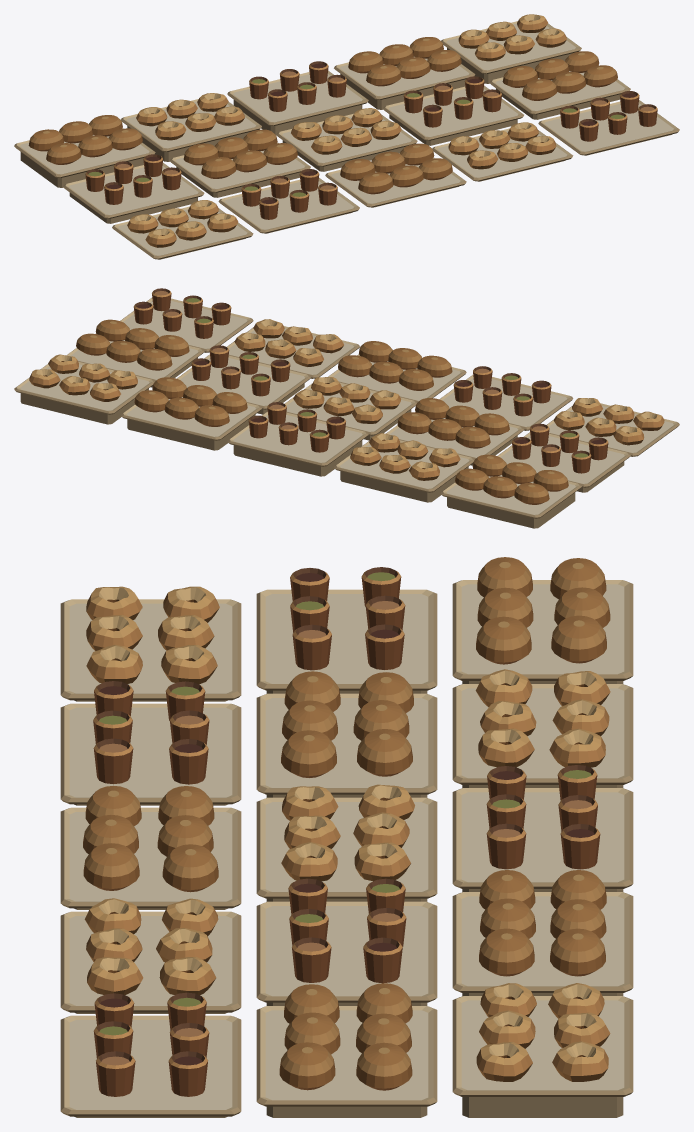
Rendered from pastries.glb.
3 renders of one model, top to bottom at view 1: azimuth 30°, elevation 25°; view 2: azimuth 150°, elevation 25°; view 3: azimuth 270°, elevation 25°, orthographic. The views are drawn at different scales.
Visible parts, largest first — view 1: Surface; view 2: Surface; view 3: Surface.
Boxes of the visible parts, bbox=[...] form: Surface: bbox=[14, 14, 679, 259]; Surface: bbox=[14, 288, 679, 528]; Surface: bbox=[60, 557, 633, 1117].
Bounding box in the file's own units: 4.84 × 0.2801 × 2.28.
